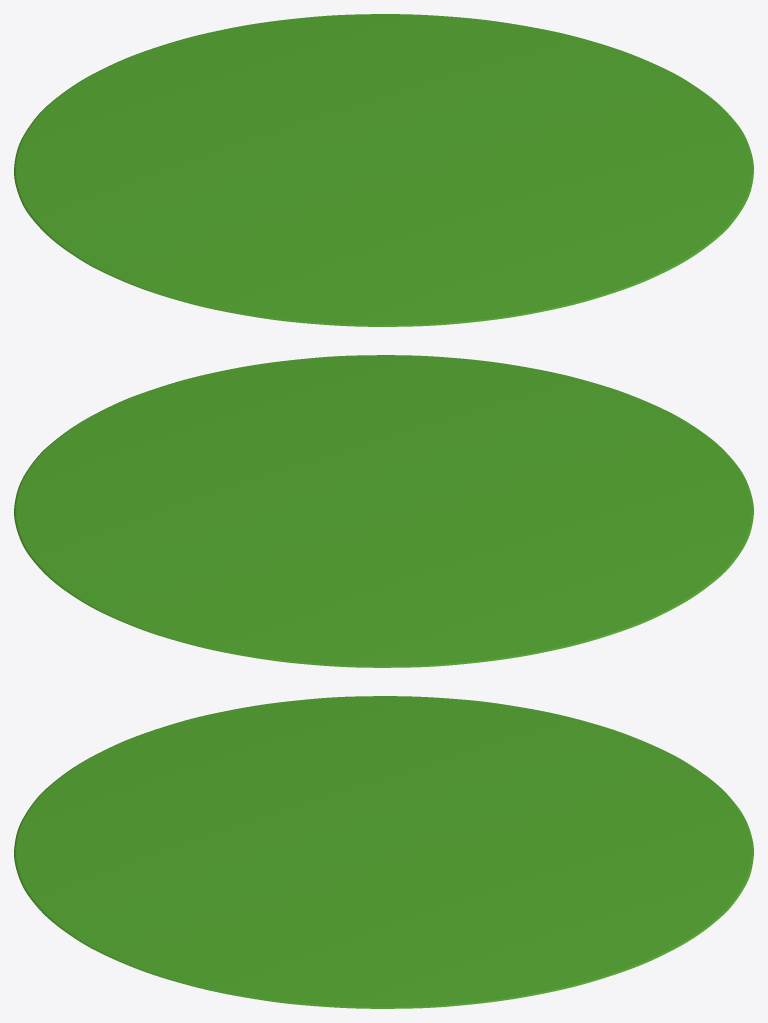
Rendered from SquareCenter.fbx.
3 renders of one model, top to bottom at view 1: azimuth 30°, elevation 25°; view 2: azimuth 150°, elevation 25°; view 3: azimuth 270°, elevation 25°, orthographic.
Visible parts, largest first — view 1: Plane.002; view 2: Plane.002; view 3: Plane.002.
Boxes of the visible parts, x1,y1,x2,y2 form: Plane.002: (14,14,753,326); Plane.002: (14,355,753,667); Plane.002: (14,696,753,1008).
Size of the model in its own units: 3935 by 6.52 by 3937.
